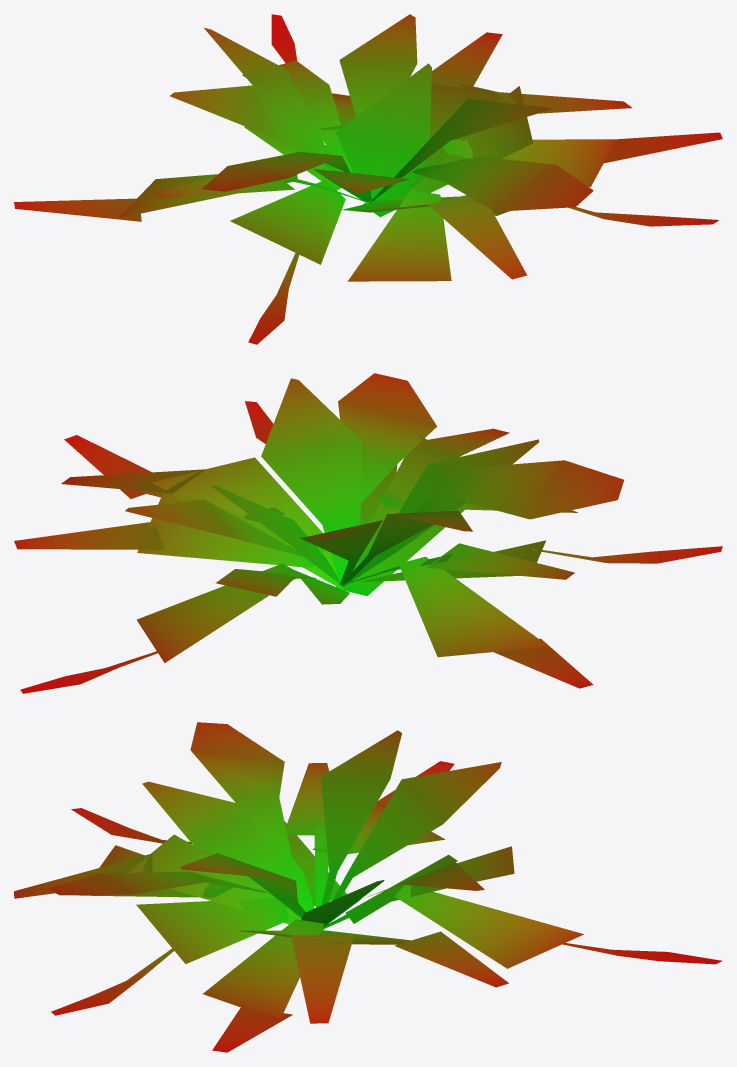
File: Var4_LOD4.fbx
3 views of the same model, one above another, from view 1: azimuth 30°, elevation 25°; view 2: azimuth 150°, elevation 25°; view 3: azimuth 270°, elevation 25° (orthographic). The views are drawn at different scales.
Parts seen in each view (by area): view 1: _6647_Var4_LOD4; view 2: _6647_Var4_LOD4; view 3: _6647_Var4_LOD4.
Boxes of the visible parts, left/top/right/bottom form: _6647_Var4_LOD4: left=14, top=14, right=722, bottom=344; _6647_Var4_LOD4: left=14, top=373, right=722, bottom=693; _6647_Var4_LOD4: left=14, top=722, right=722, bottom=1052.
Size of the model in its own units: 79.12 by 16.45 by 79.47.
